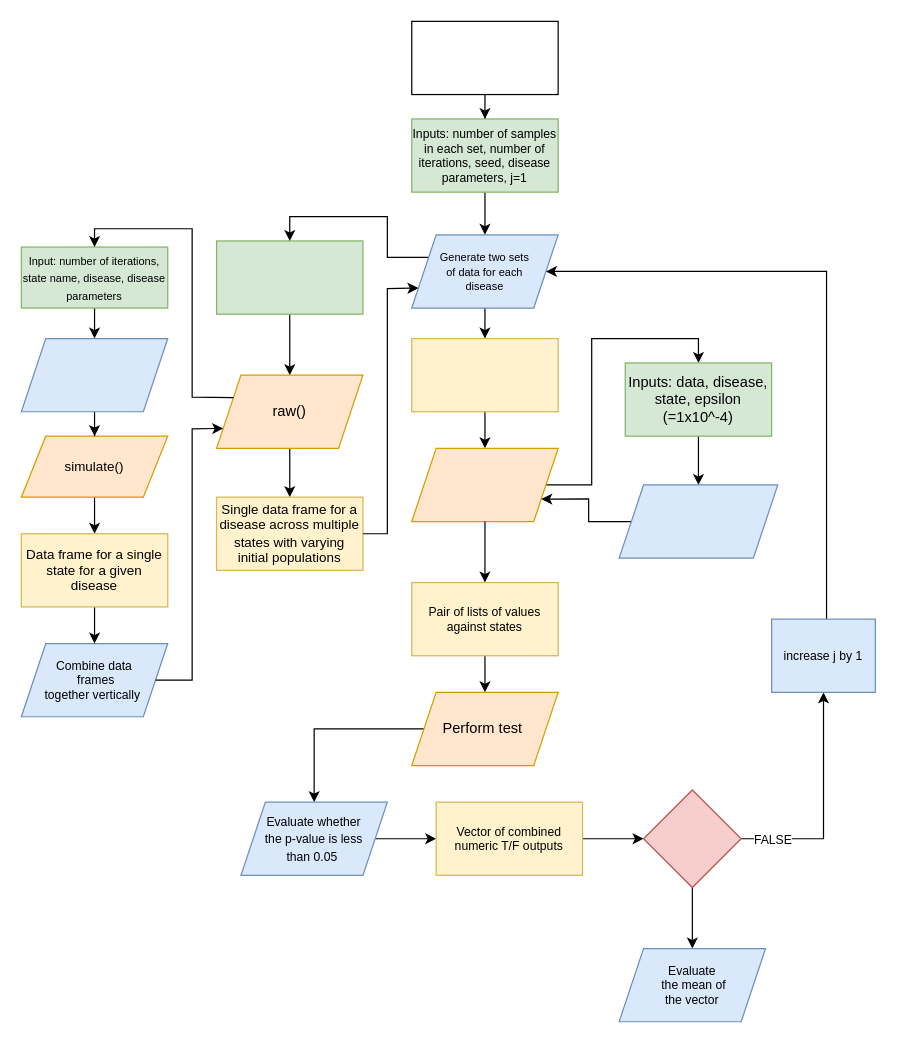
Image size: 897x1043. Some labels were removed from this diagram. The box of each missing label's shape, as (x1, y1, x2, y2) in pixels:
calculates the first year that reports a proportion below epsilon: (618, 484, 778, 558)
does j=n: (642, 789, 741, 888)
Generate initial populations and state names: (20, 337, 168, 412)
Input: sample size, disease, disease parameters, seed: (215, 240, 363, 314)
Paired data with consistent initial populations and number of weeks reporting: (411, 337, 558, 412)
Test: Wilcoxon or t-test: (411, 20, 558, 95)
Zero(): (411, 447, 558, 522)
